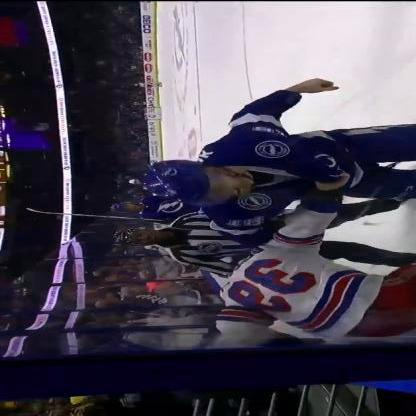voilence: (140, 76, 416, 252), (212, 170, 416, 341)
